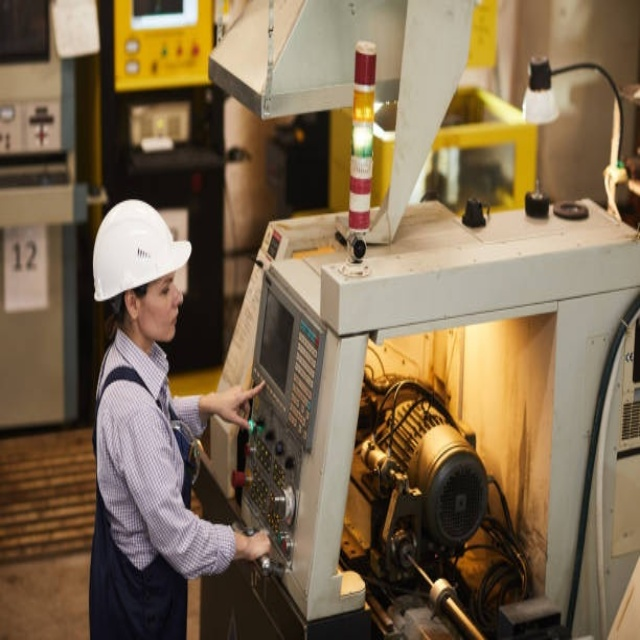Sin_gafas: (137, 270, 179, 306)
Sin_guantes: (202, 372, 267, 433), (239, 528, 273, 565)
Sin_mascara: (152, 304, 181, 340)
